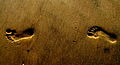human_footprint: (87, 26, 116, 42), (6, 28, 33, 41)
